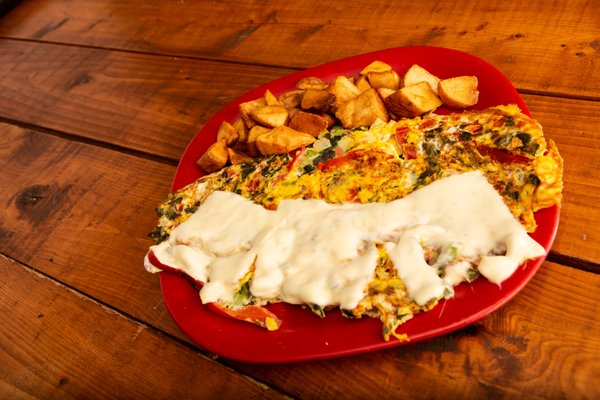curry: (1, 0, 597, 394)
